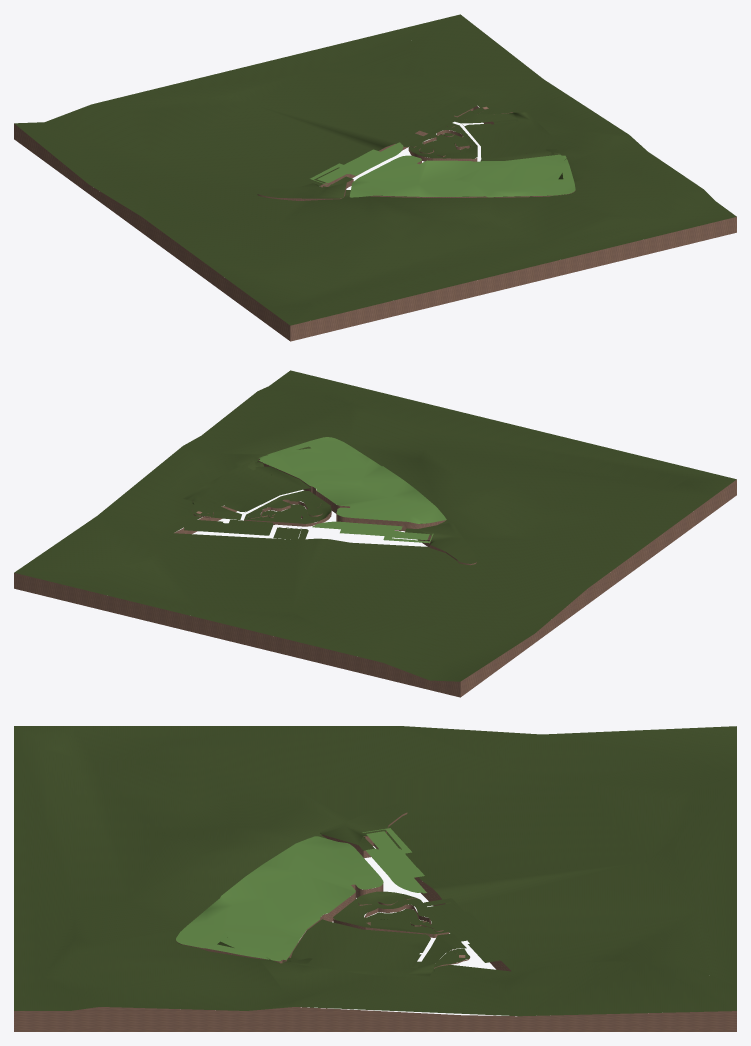
The model's file is terrain.glb.
3 renders of one model, top to bottom at view 1: azimuth 30°, elevation 25°; view 2: azimuth 150°, elevation 25°; view 3: azimuth 270°, elevation 25°, orthographic. The views are drawn at different scales.
Parts seen in each view (by area): view 1: 草_-_绿色_4, 土_-_棕色_4, 草_-_绿色_DS_4; view 2: 草_-_绿色_4, 土_-_棕色_4, 草_-_绿色_DS_4; view 3: 草_-_绿色_4, 土_-_棕色_4, 草_-_绿色_DS_4.
Boxes of the visible parts, x1=… form: 草_-_绿色_4: x1=14, y1=14, x2=736, y2=325; 土_-_棕色_4: x1=14, y1=106, x2=736, y2=341; 草_-_绿色_DS_4: x1=310, y1=142, x2=575, y2=197; 草_-_绿色_4: x1=14, y1=370, x2=736, y2=681; 土_-_棕色_4: x1=14, y1=458, x2=736, y2=697; 草_-_绿色_DS_4: x1=259, y1=437, x2=446, y2=543; 草_-_绿色_4: x1=14, y1=726, x2=736, y2=1016; 土_-_棕色_4: x1=14, y1=812, x2=736, y2=1031; 草_-_绿色_DS_4: x1=176, y1=828, x2=426, y2=961.
Bounding box in the file's own units: 587 × 26 × 630.
Materials: 3 (2 with a texture image).
